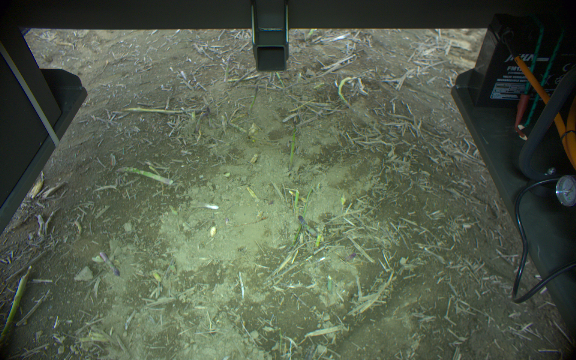aspa: (1, 265, 33, 343), (114, 165, 176, 187), (296, 215, 324, 241), (338, 75, 358, 107), (99, 252, 120, 277), (288, 119, 298, 171), (192, 111, 205, 135), (247, 85, 258, 111)
